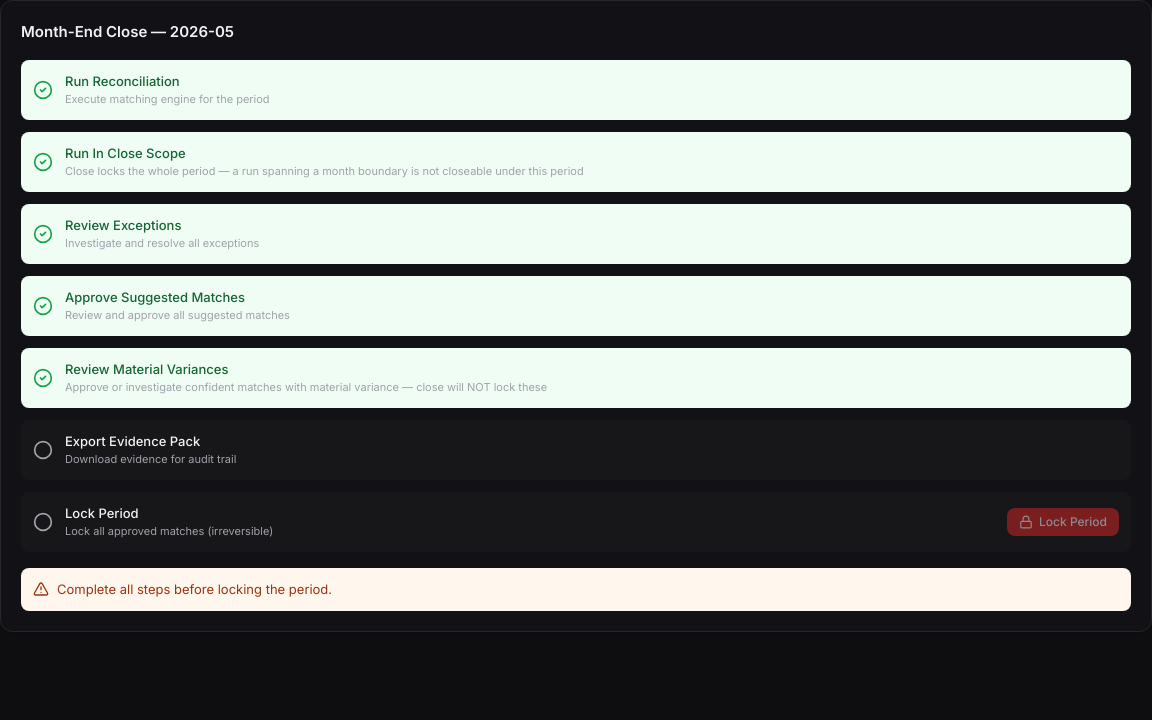
Scenario: CloseChecklist — period-readiness-driven auto-checks › all-zero counts + completed run enables the lock once export is confirmed (single-run unchanged)
expect the button "Lock Period" is disabled: met, box left=1007, top=508, right=1119, bottom=536
Click the button without text next to "Export Evidence Pack" at (43, 450), box left=33, top=440, right=53, bottom=460
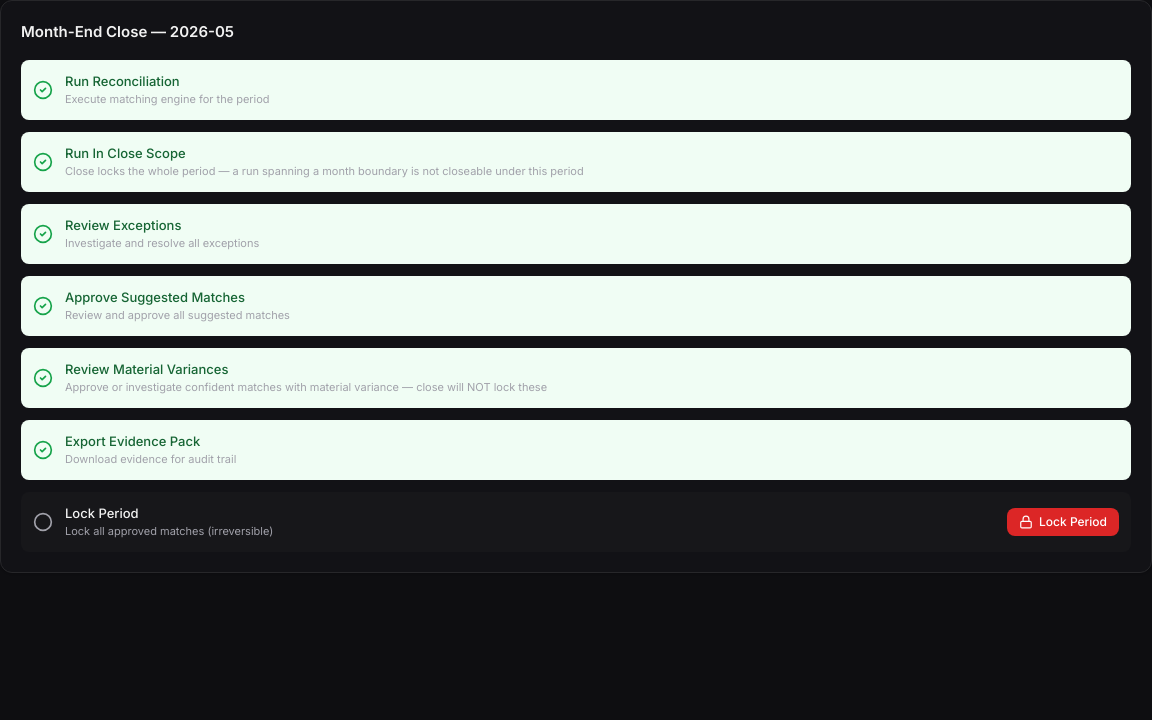
expect the button "Lock Period" is enabled: met, box left=1007, top=508, right=1119, bottom=536
